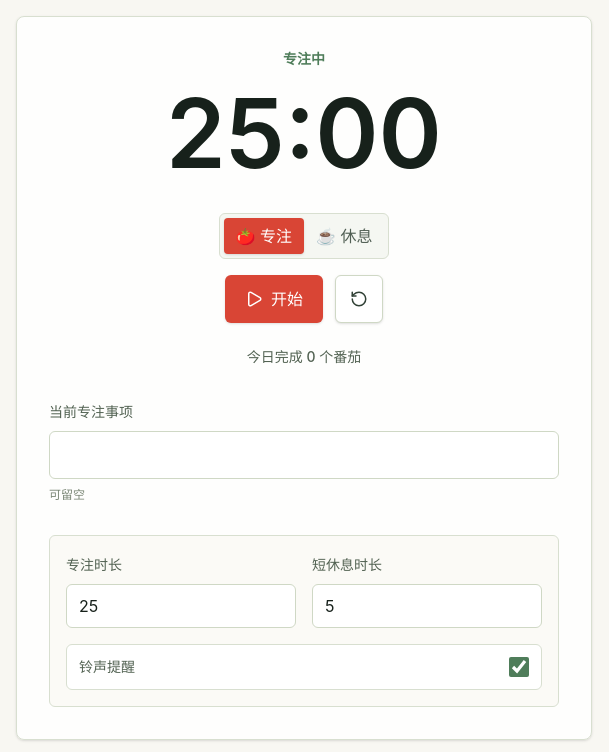
Test: App › allows switching between focus and break modes
Click the button "☕ 休息" at (344, 236), box x1=304 y1=218 x2=384 y2=254
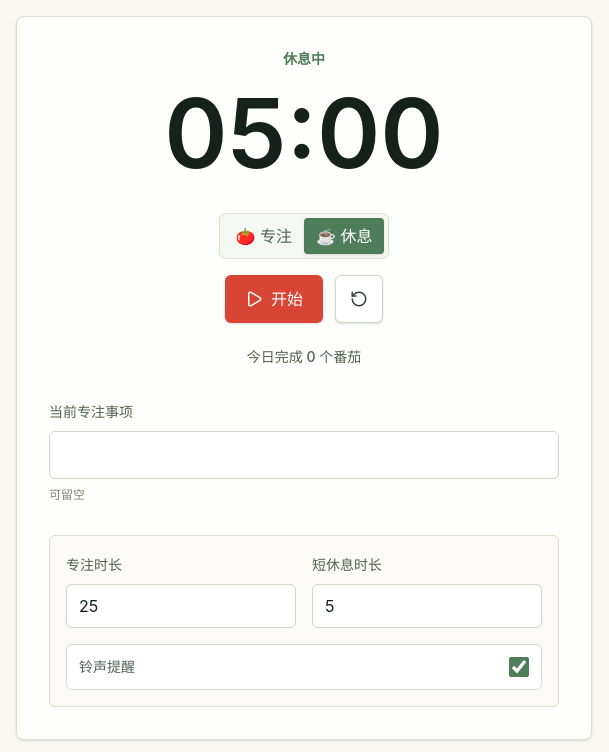
Now the text "休息中" is shown, box x1=283 y1=50 x2=325 y2=67
Now the heading "05:00" is shown, box x1=164 y1=75 x2=444 y2=191
